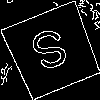S: (27, 25, 76, 81)
